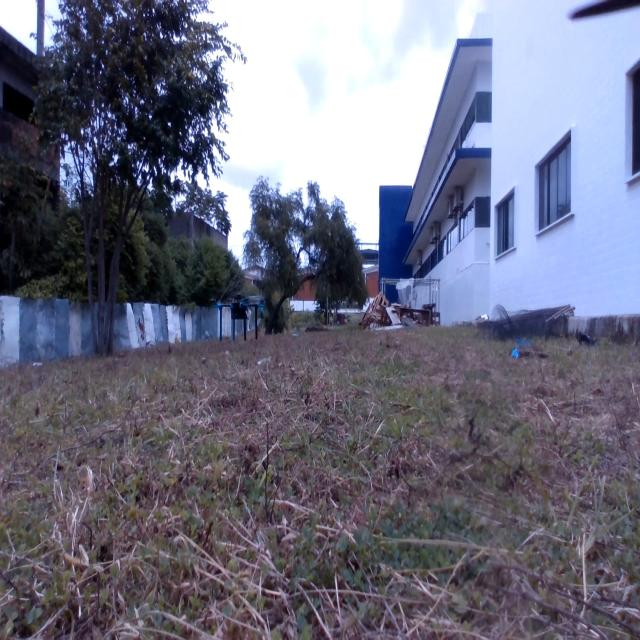-uav-: (201, 274, 275, 363)
